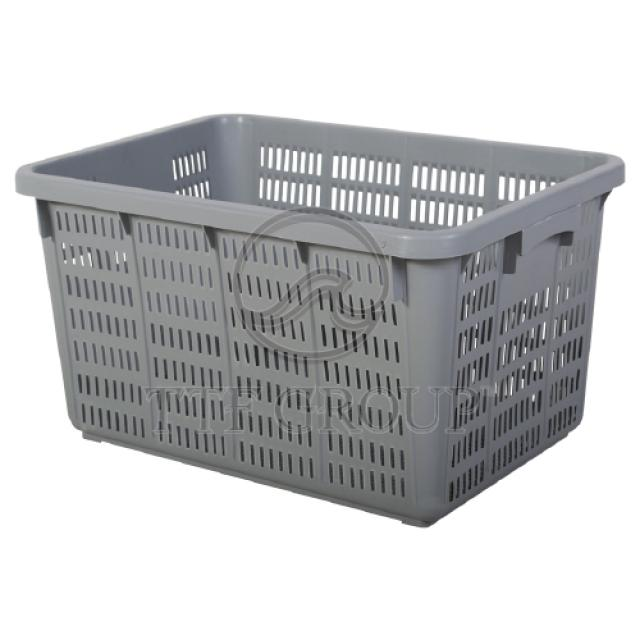basket: (0, 90, 629, 545)
